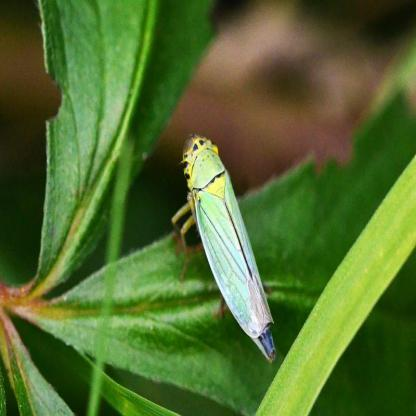Green-Leafhopper: (167, 130, 281, 363)
